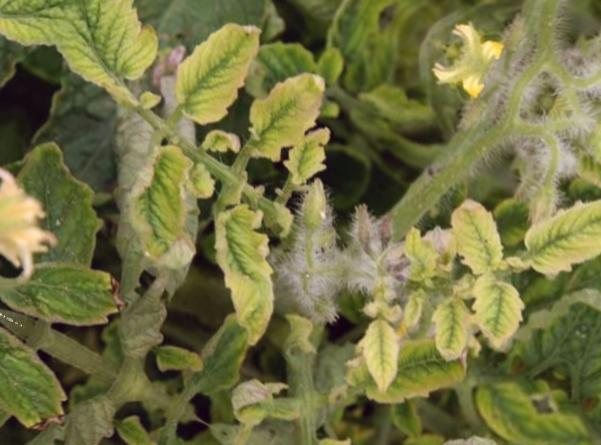Tomato leaf yellow virus: (163, 191, 321, 363), (91, 128, 232, 293), (41, 0, 197, 119), (502, 157, 601, 326), (166, 1, 274, 137), (441, 268, 549, 392), (423, 178, 533, 294), (241, 40, 338, 161), (332, 314, 424, 411)
